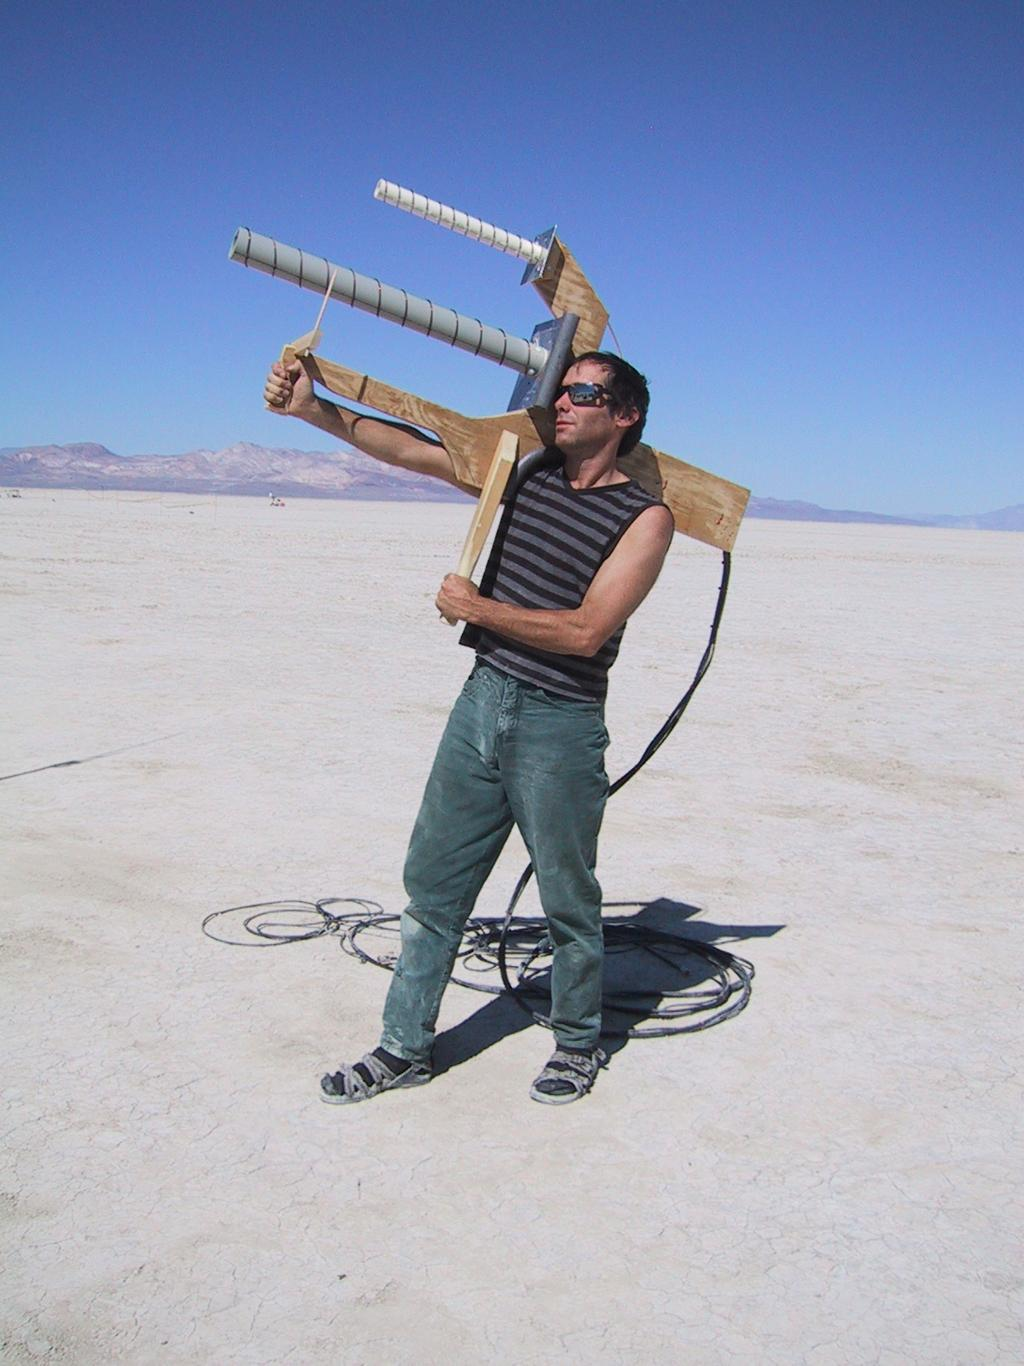face: (555, 360, 608, 451)
